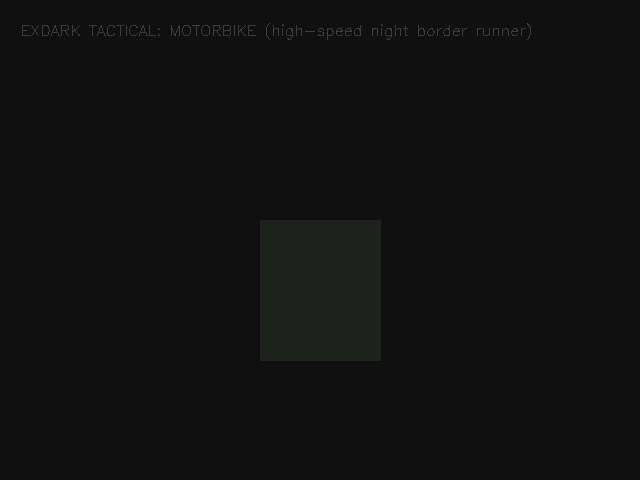Motorbike: (260, 220, 380, 360)
